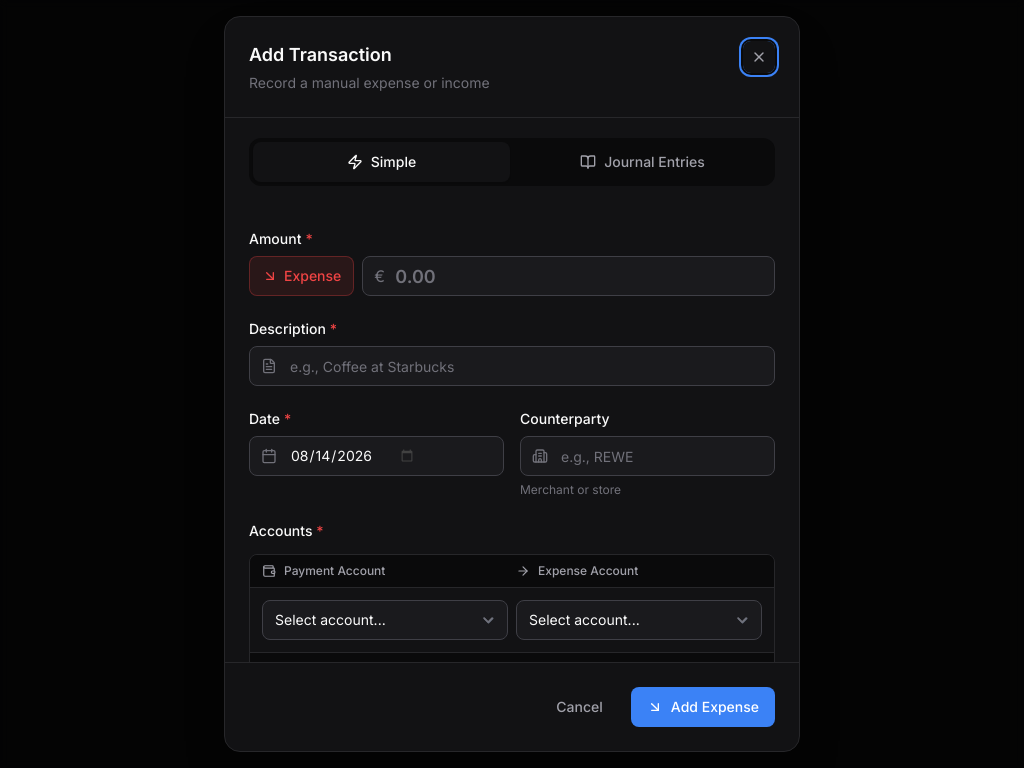
Test: AddTransactionModal › negative amount handling › auto-switches to expense when negative amount is entered
This screenshot has width=1024, height=768.
// Switch to income first
Click the button with test id "type-toggle": click(302, 276) [249,256,354,296]
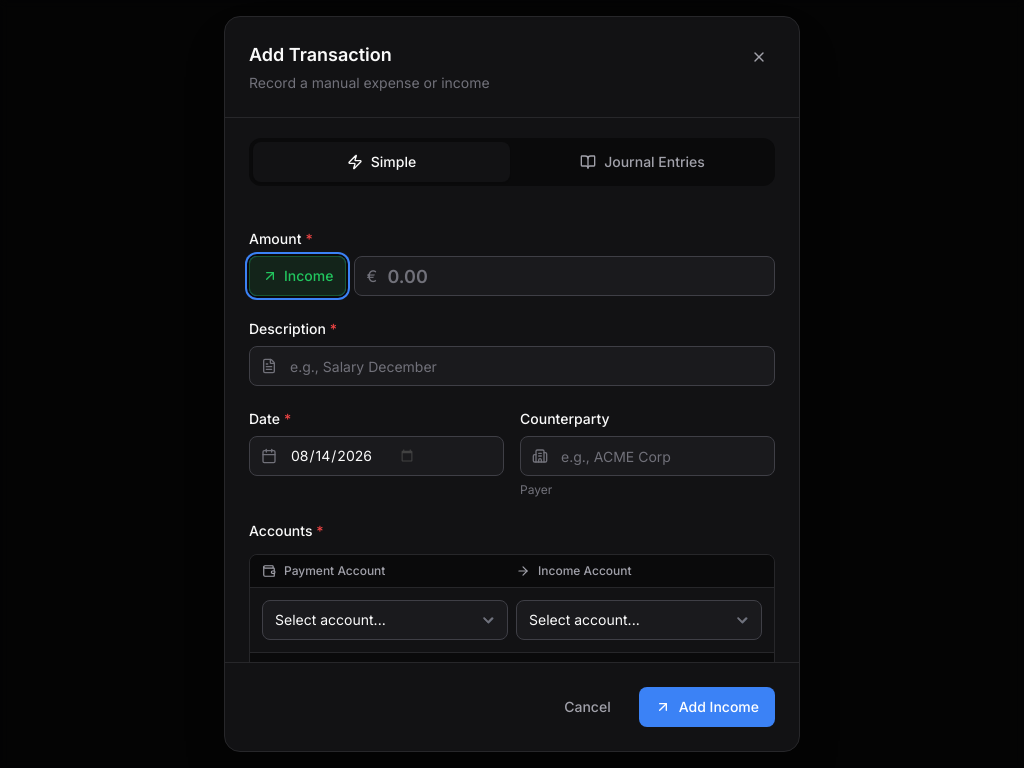
// Type negative amount
In the number field with placeholder "0.00": (565, 276) [354,256,775,296], type "-25.50"
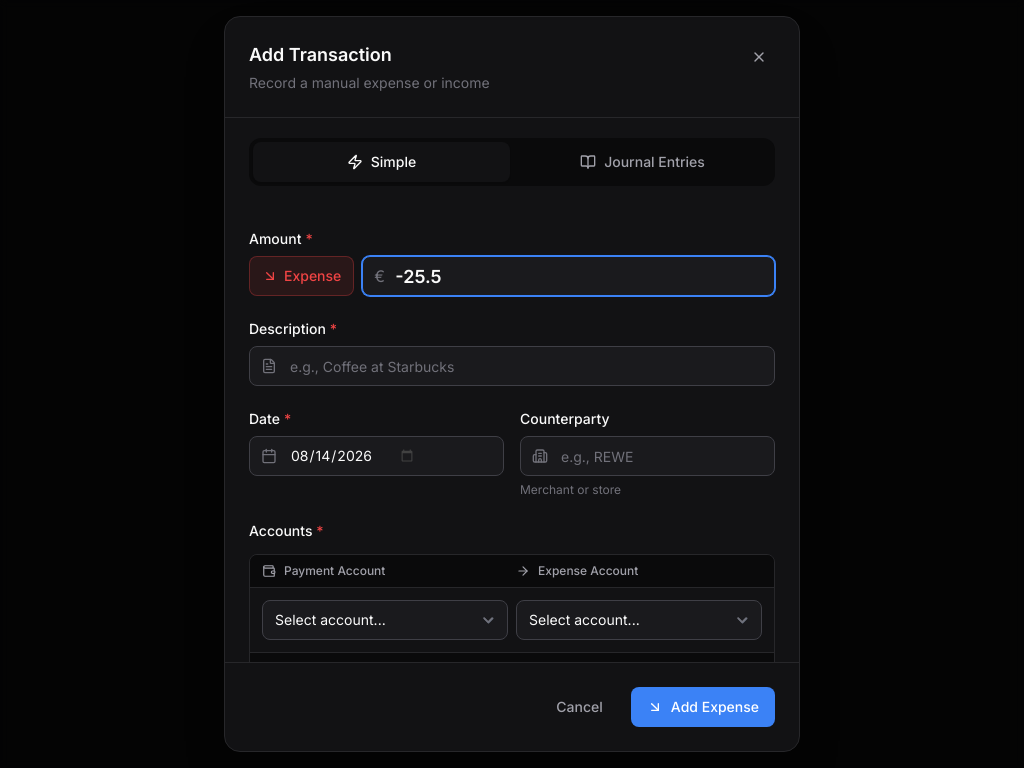
Expected: the button with test id "type-toggle" reads "Expense", [249,256,354,296]
